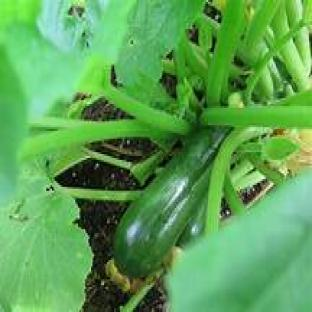Zucchini: (115, 130, 225, 277), (178, 168, 210, 246)
